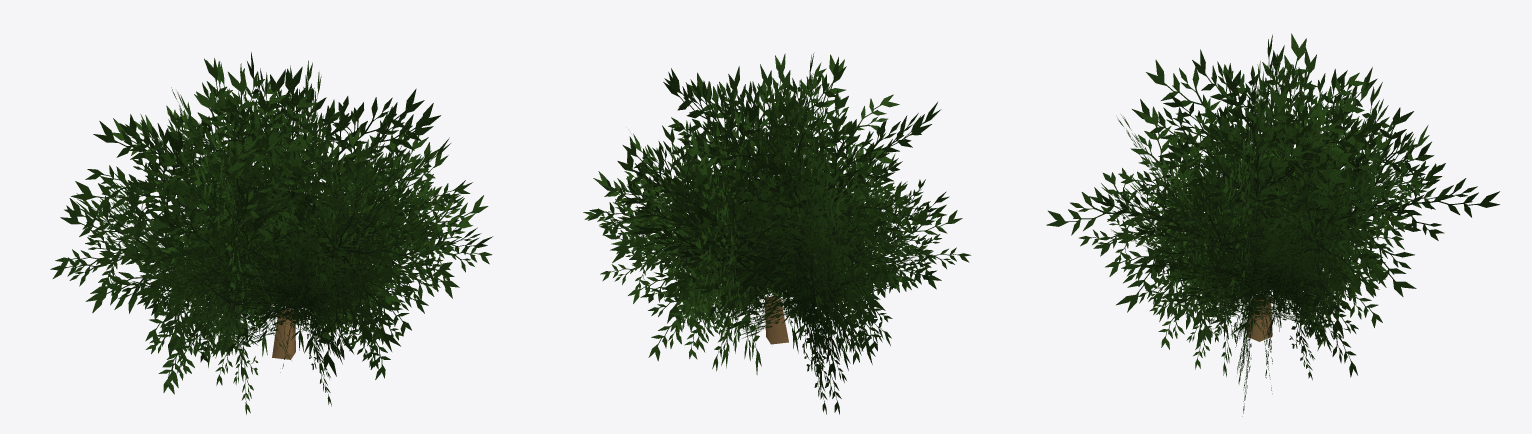
File: BushModel.fbx
3 views of the same model, side by side, from view 1: azimuth 30°, elevation 25°; view 2: azimuth 150°, elevation 25°; view 3: azimuth 270°, elevation 25° (orthographic). The views are drawn at different scales.
Parts seen in each view (by area): view 1: bush03; view 2: bush03; view 3: bush03.
Part boxes in pixels (x1,y1,x2,y2): bush03: (50,52,493,414); bush03: (583,52,970,414); bush03: (1046,33,1499,416).
Bounding box in the file's own units: 128 × 103 × 132.
Materials: 2 (2 with a texture image).
